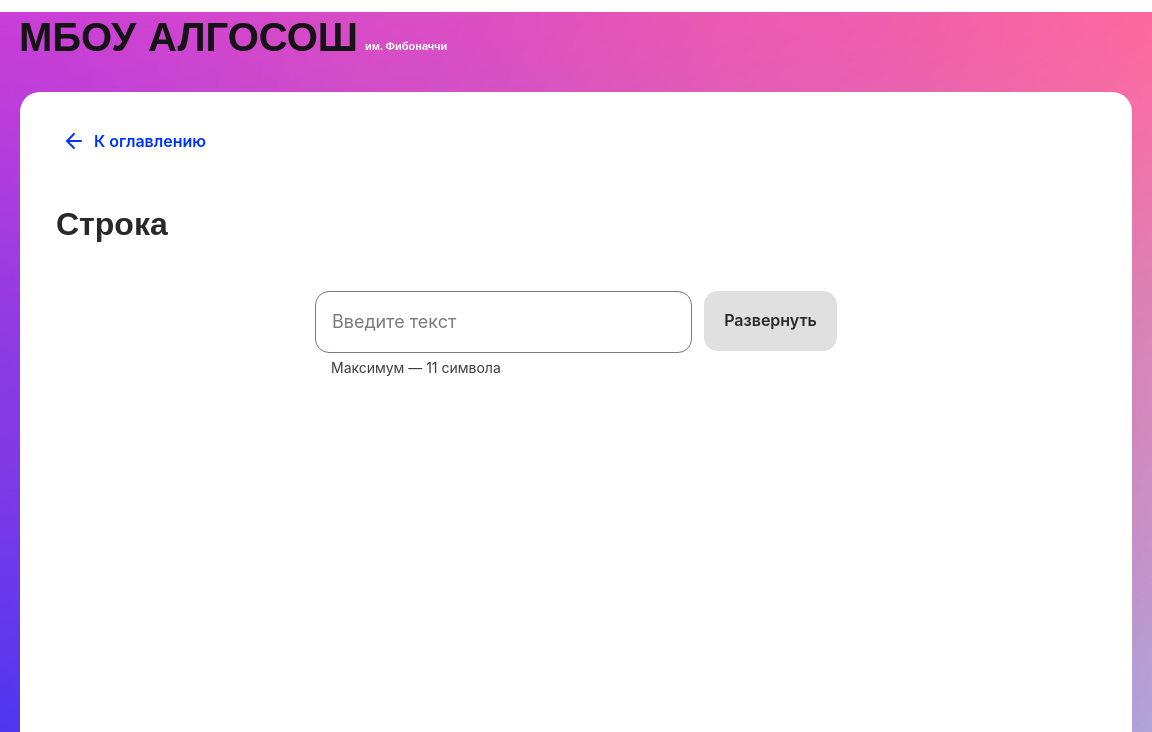
Test: Разворот строки с четным количеством символов
Type "qwerty" into the field with placeholder "Введите текст" at (504, 322), box x1=315 y1=291 x2=692 y2=353
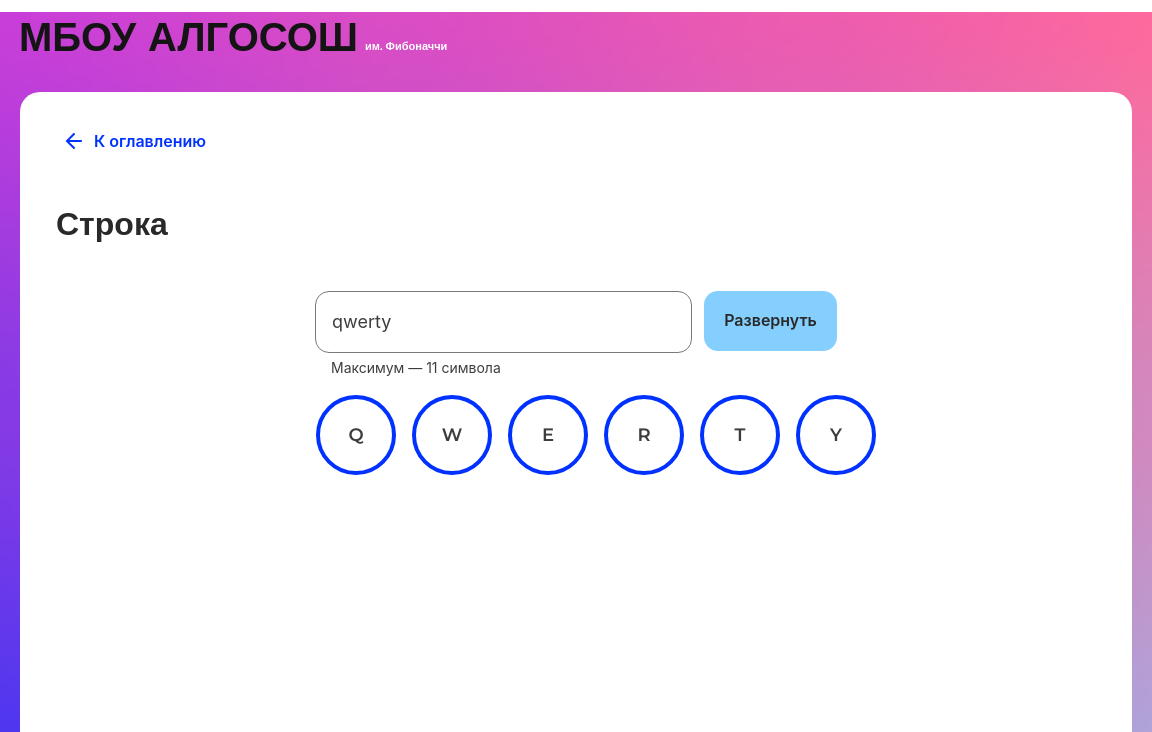
Click the button with test id "button" at (770, 321), box x1=704 y1=291 x2=837 y2=351
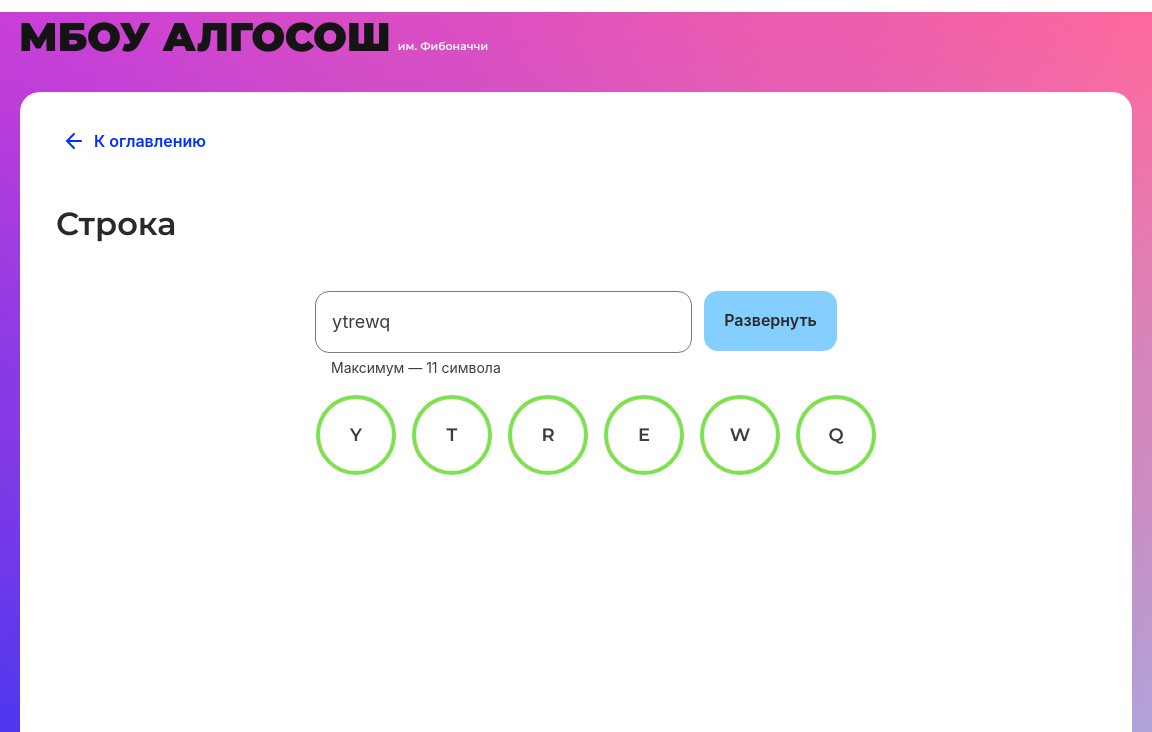
Result: the field with placeholder "Введите текст" holds "ytrewq" at x1=315 y1=291 x2=692 y2=353
